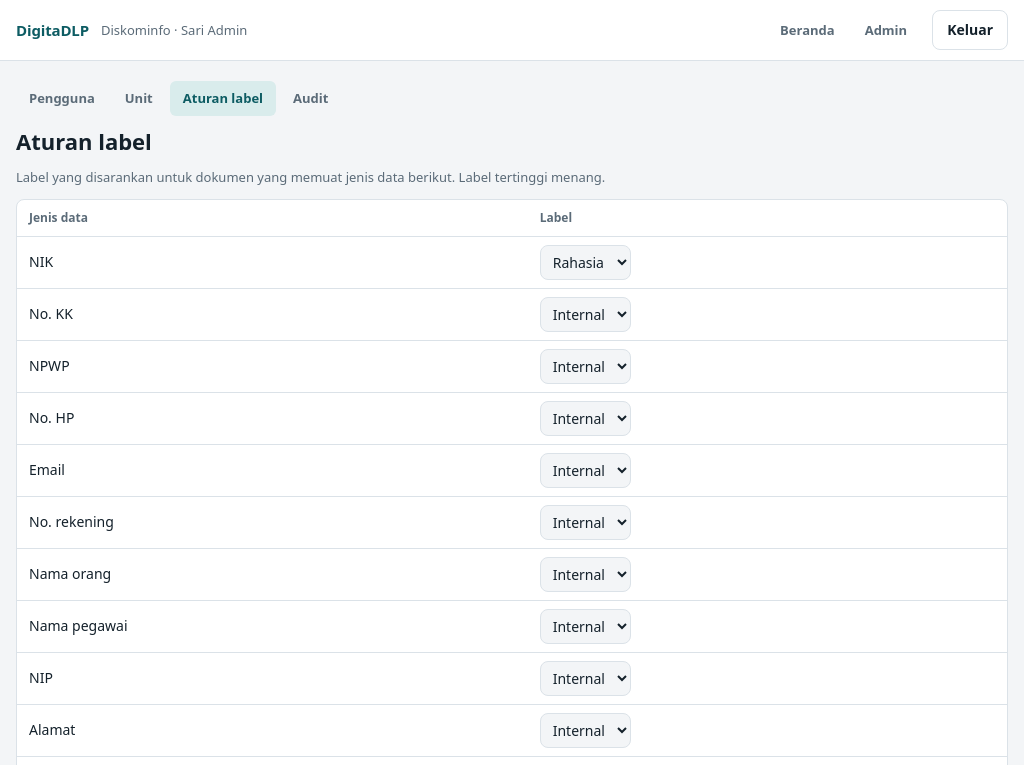
Test: label rules save sends full table
This screenshot has width=1024, height=765.
Expected: the dropdown named "Label NIK" shows "Rahasia", [540,245,631,280]
Select "Publik" in the dropdown named "Label No. HP" at x=585, y=418, box [540,401,631,436]
(page scrolled)
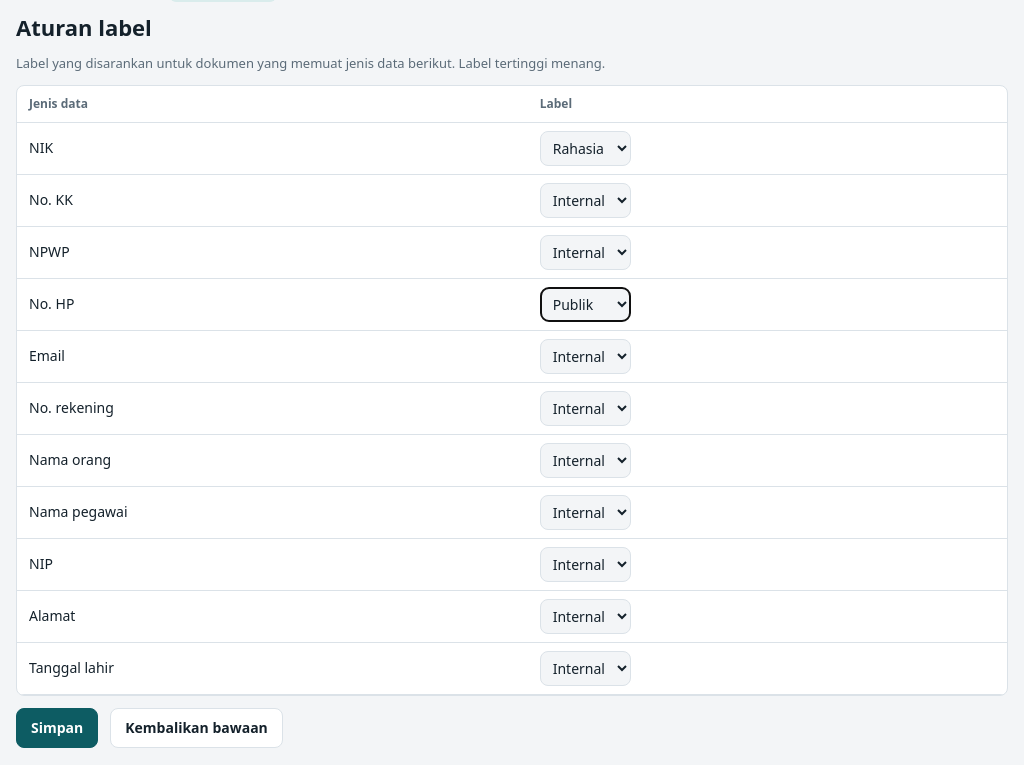
Click the button "Simpan".
click(57, 728)  # box [16,708,98,748]
(page scrolled)
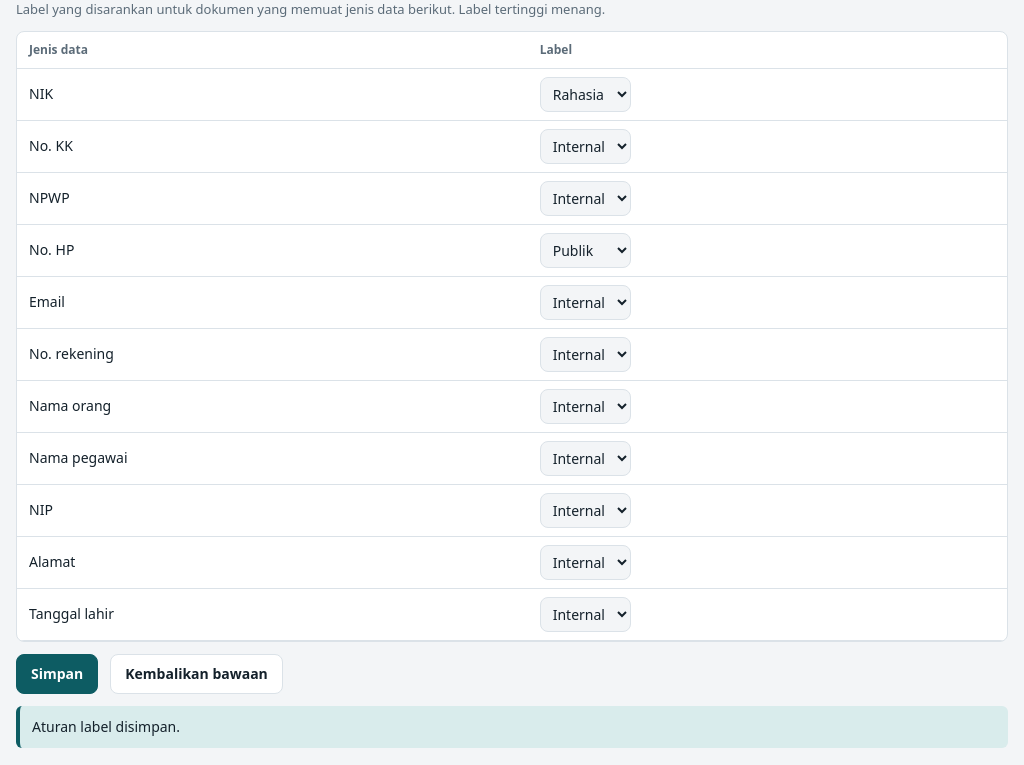
Now the message reads "Aturan label disimpan.", box [32,717,180,736]
